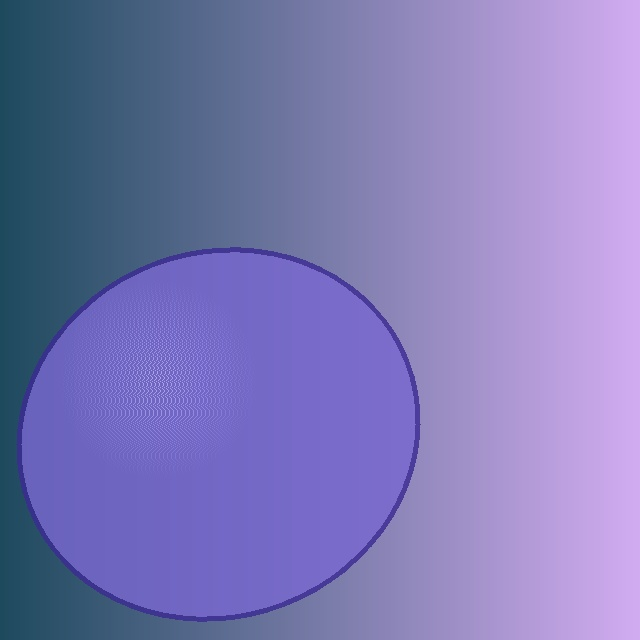lens: (19, 251, 417, 617)
